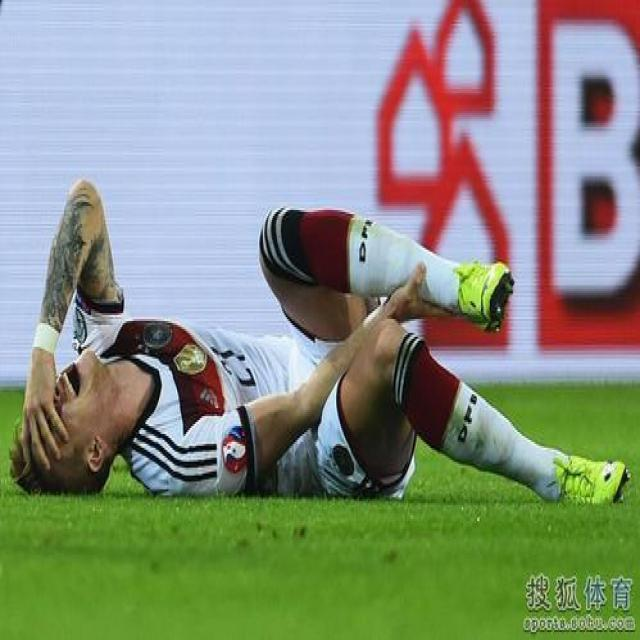fall: (7, 140, 624, 508)
